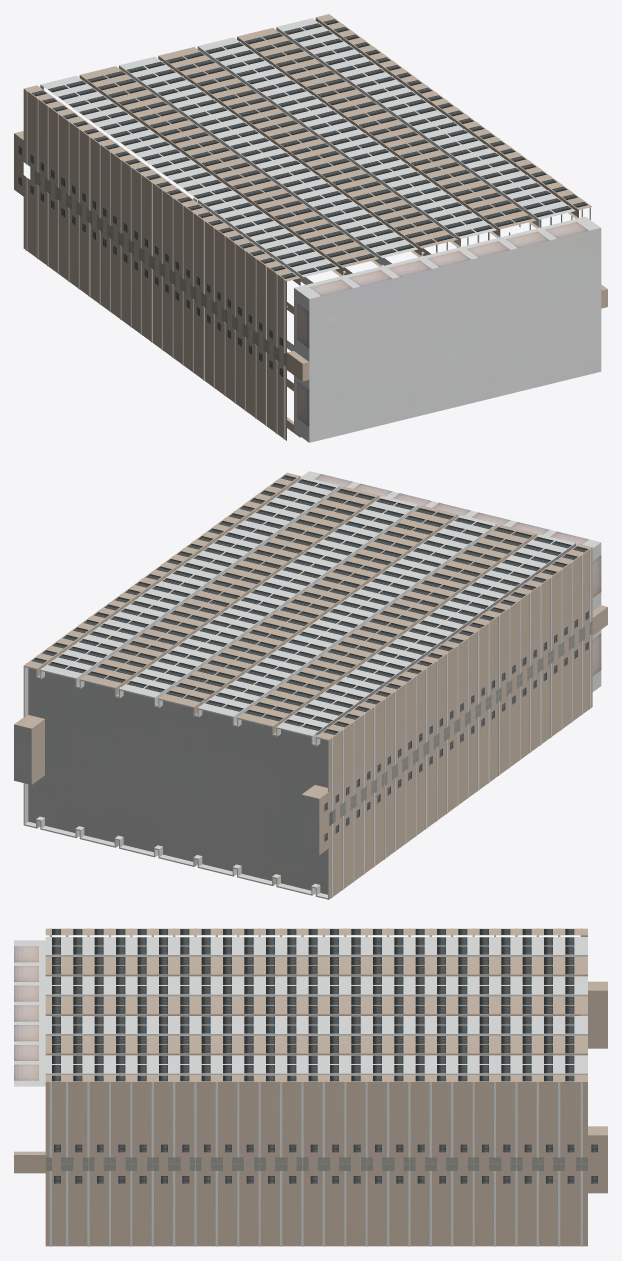
The model's file is Building.glb.
3 renders of one model, top to bottom at view 1: azimuth 30°, elevation 25°; view 2: azimuth 150°, elevation 25°; view 3: azimuth 270°, elevation 25°, orthographic. The views are drawn at different scales.
Size of the model in its own units: 40.1 by 20 by 65.45.
7 materials, 7 textured.
